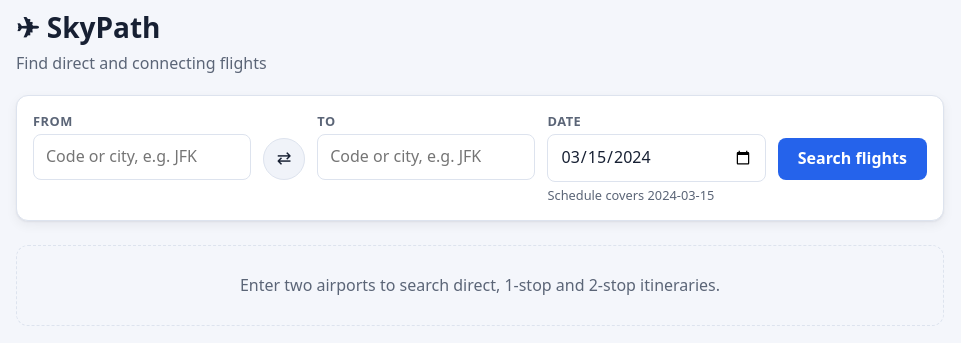
App › shows a field error returned by the API next to the input
Type "ORD" into the dropdown labelled "From" at [142, 157], box [33, 134, 251, 180]
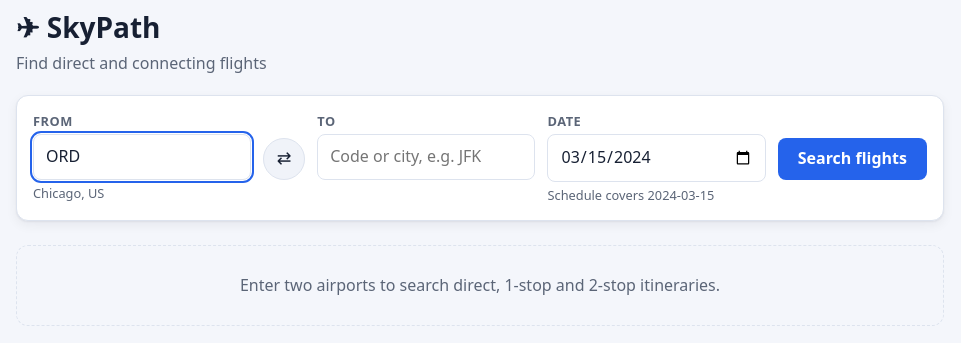
Type "LAX" into the dropdown labelled "To" at [426, 157], box [317, 134, 536, 180]
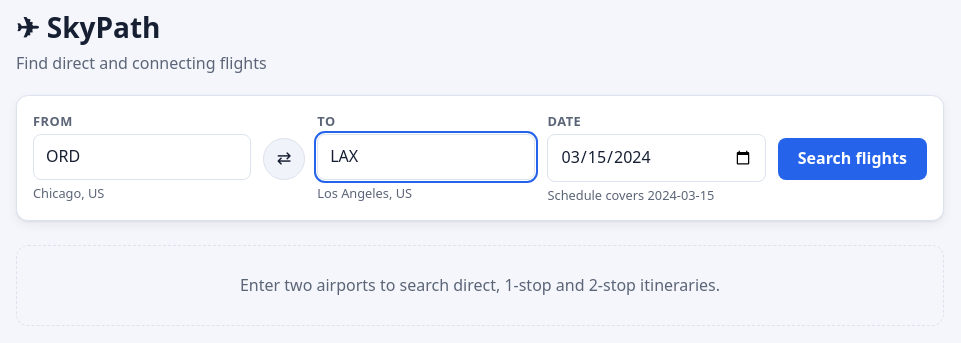
Click the button "Search flights" at [852, 159], box [778, 138, 927, 180]
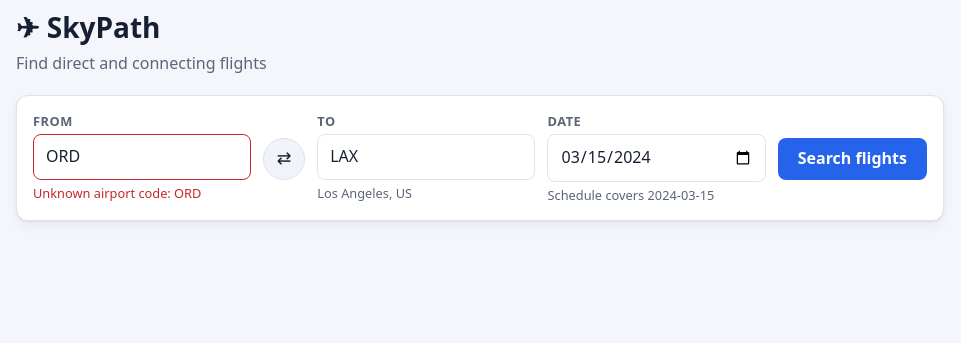
expect the text "Unknown airport code: ORD" is shown: met, box [33, 184, 201, 202]
